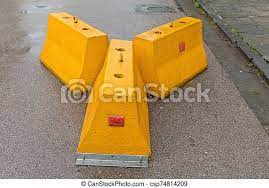obstacle: (38, 4, 216, 169)
